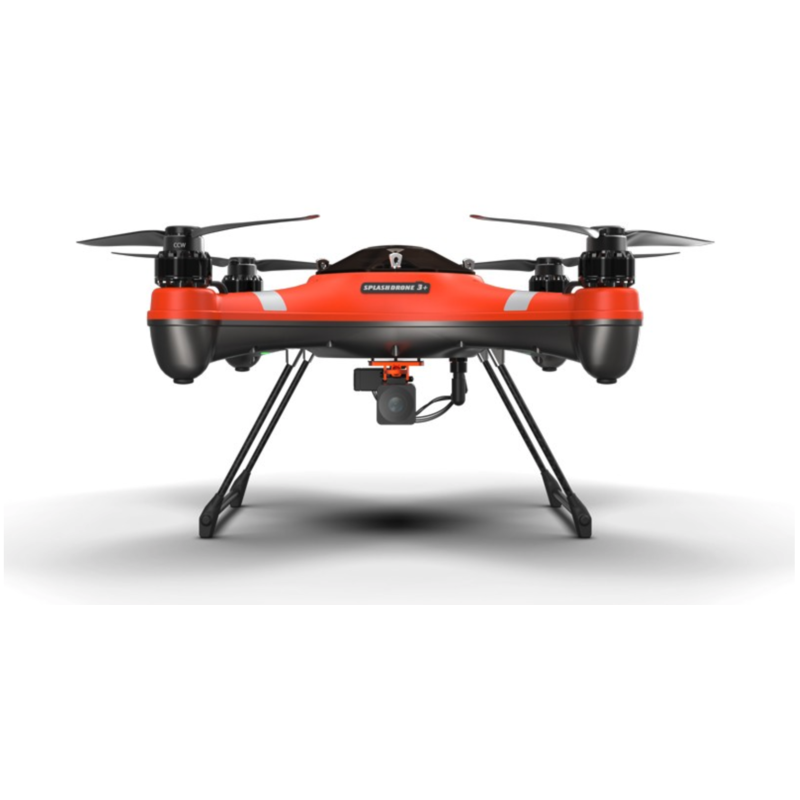drone: (69, 202, 733, 558)
